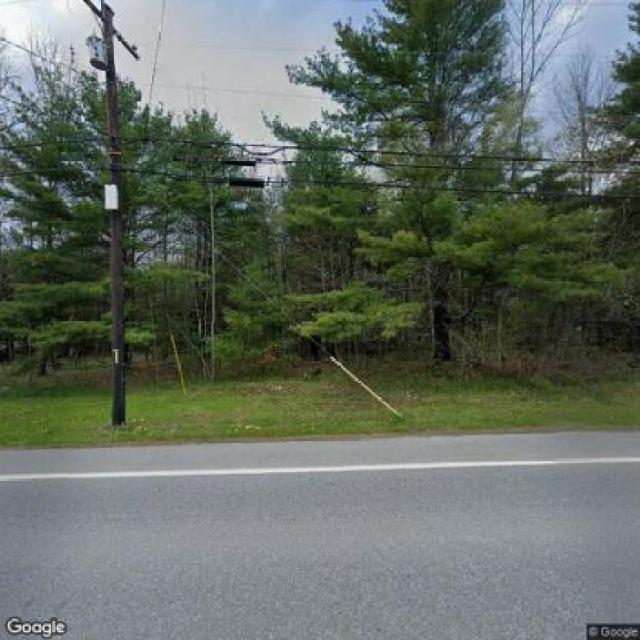pole: (66, 0, 148, 429)
